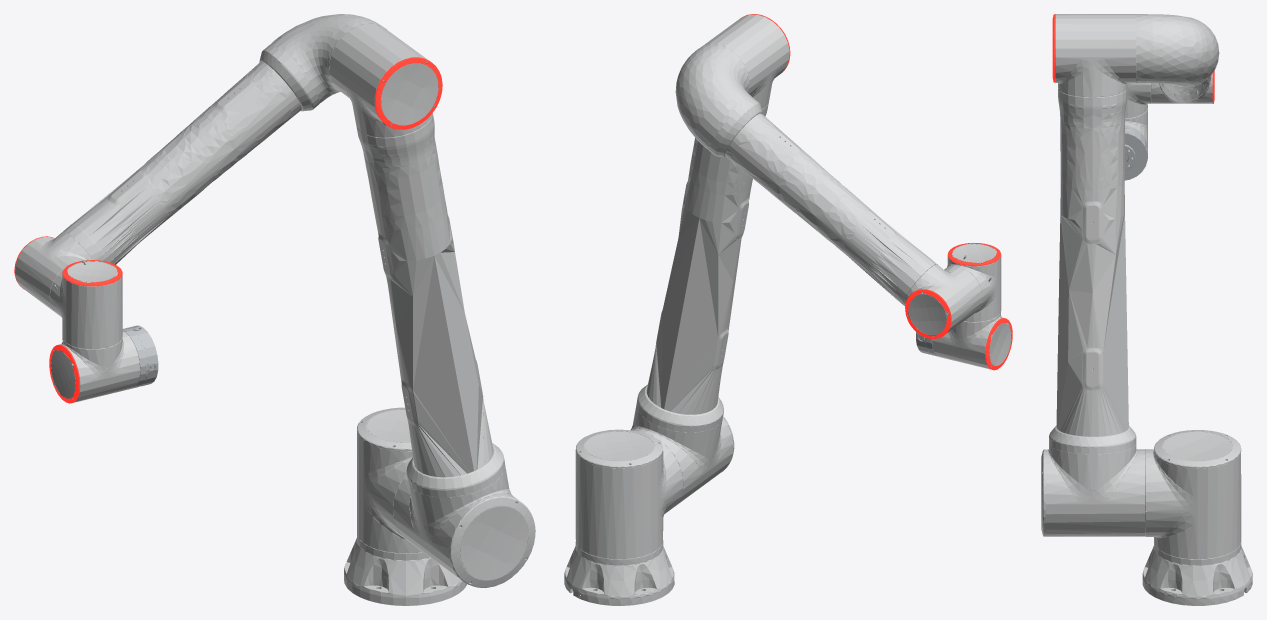
The picture shows the model from 3 angles, left to right: view 1: azimuth 30°, elevation 25°; view 2: azimuth 150°, elevation 25°; view 3: azimuth 270°, elevation 25°; orthographic projection. The views are drawn at different scales.
Parts seen in each view (by area): view 1: Link_2_UpperArm_fr5_white_gloss, Link_3_Forearm_fr5_white_gloss, Link_1_Shoulder_fr5_white_gloss, Link_0_Base_fr5_white_gloss, Link_4_Wrist1_fr5_white_gloss, Link_5_Wrist2_fr5_white_gloss, Link_6_Flange_fr5_flange_alu, Link_2_UpperArm_fr5_led_ring; view 2: Link_2_UpperArm_fr5_white_gloss, Link_3_Forearm_fr5_white_gloss, Link_1_Shoulder_fr5_white_gloss, Link_0_Base_fr5_white_gloss, Link_5_Wrist2_fr5_white_gloss, Link_4_Wrist1_fr5_white_gloss, Link_3_Forearm_fr5_led_ring; view 3: Link_2_UpperArm_fr5_white_gloss, Link_1_Shoulder_fr5_white_gloss, Link_3_Forearm_fr5_white_gloss, Link_0_Base_fr5_white_gloss, Link_6_Flange_fr5_flange_alu, Link_4_Wrist1_fr5_white_gloss, Link_5_Wrist2_fr5_white_gloss.
Part boxes in pixels (box(x1,y1,x2,y2)): Link_2_UpperArm_fr5_white_gloss: box(329, 24, 535, 587); Link_3_Forearm_fr5_white_gloss: box(15, 14, 386, 313); Link_1_Shoulder_fr5_white_gloss: box(357, 407, 422, 553); Link_0_Base_fr5_white_gloss: box(344, 535, 467, 605); Link_4_Wrist1_fr5_white_gloss: box(50, 261, 122, 349); Link_5_Wrist2_fr5_white_gloss: box(50, 331, 140, 402); Link_6_Flange_fr5_flange_alu: box(122, 325, 158, 388); Link_2_UpperArm_fr5_led_ring: box(374, 57, 442, 129); Link_2_UpperArm_fr5_white_gloss: box(630, 14, 789, 508); Link_3_Forearm_fr5_white_gloss: box(675, 44, 982, 336); Link_1_Shoulder_fr5_white_gloss: box(575, 429, 682, 559); Link_0_Base_fr5_white_gloss: box(564, 540, 674, 605); Link_5_Wrist2_fr5_white_gloss: box(932, 312, 1011, 369); Link_4_Wrist1_fr5_white_gloss: box(945, 243, 1001, 321); Link_3_Forearm_fr5_led_ring: box(905, 289, 951, 338); Link_2_UpperArm_fr5_white_gloss: box(1041, 14, 1145, 536); Link_1_Shoulder_fr5_white_gloss: box(1145, 430, 1241, 559); Link_3_Forearm_fr5_white_gloss: box(1136, 14, 1219, 103); Link_0_Base_fr5_white_gloss: box(1142, 542, 1252, 605); Link_6_Flange_fr5_flange_alu: box(1124, 125, 1147, 180); Link_4_Wrist1_fr5_white_gloss: box(1125, 83, 1150, 118); Link_5_Wrist2_fr5_white_gloss: box(1125, 108, 1147, 149).
Size of the model in its own units: 0.979 by 1.27 by 0.4598.
